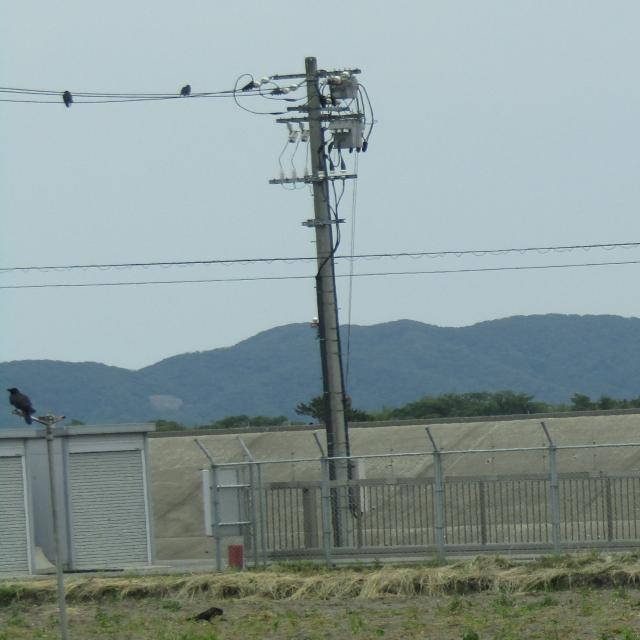pole: (250, 43, 418, 560)
